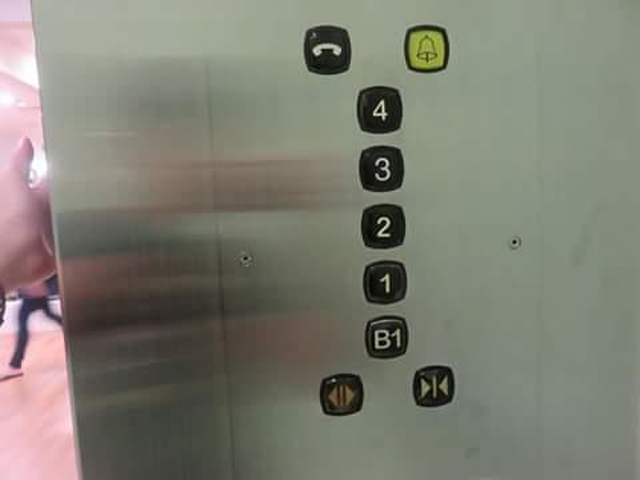1: (362, 259, 408, 305)
2: (360, 203, 406, 249)
3: (358, 144, 405, 192)
4: (355, 84, 404, 135)
B1: (364, 314, 410, 362)
alarm: (404, 24, 450, 74)
call: (302, 25, 352, 77)
close: (412, 364, 456, 408)
open: (320, 372, 364, 417)
